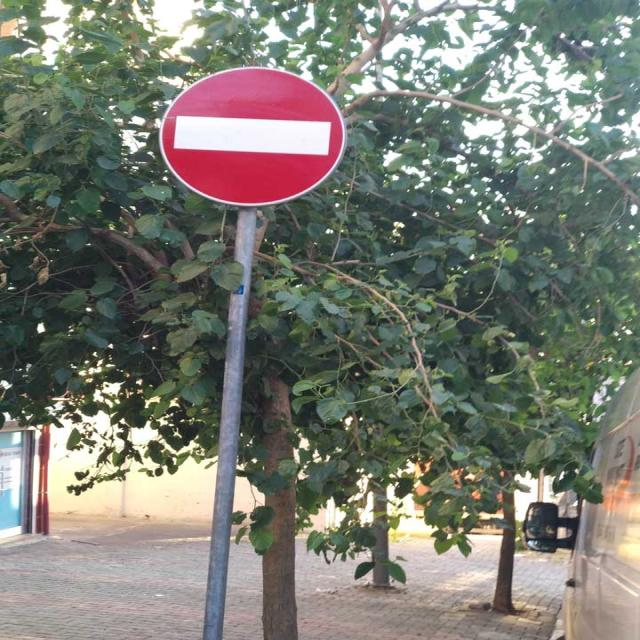girisyok: (159, 67, 348, 207)
